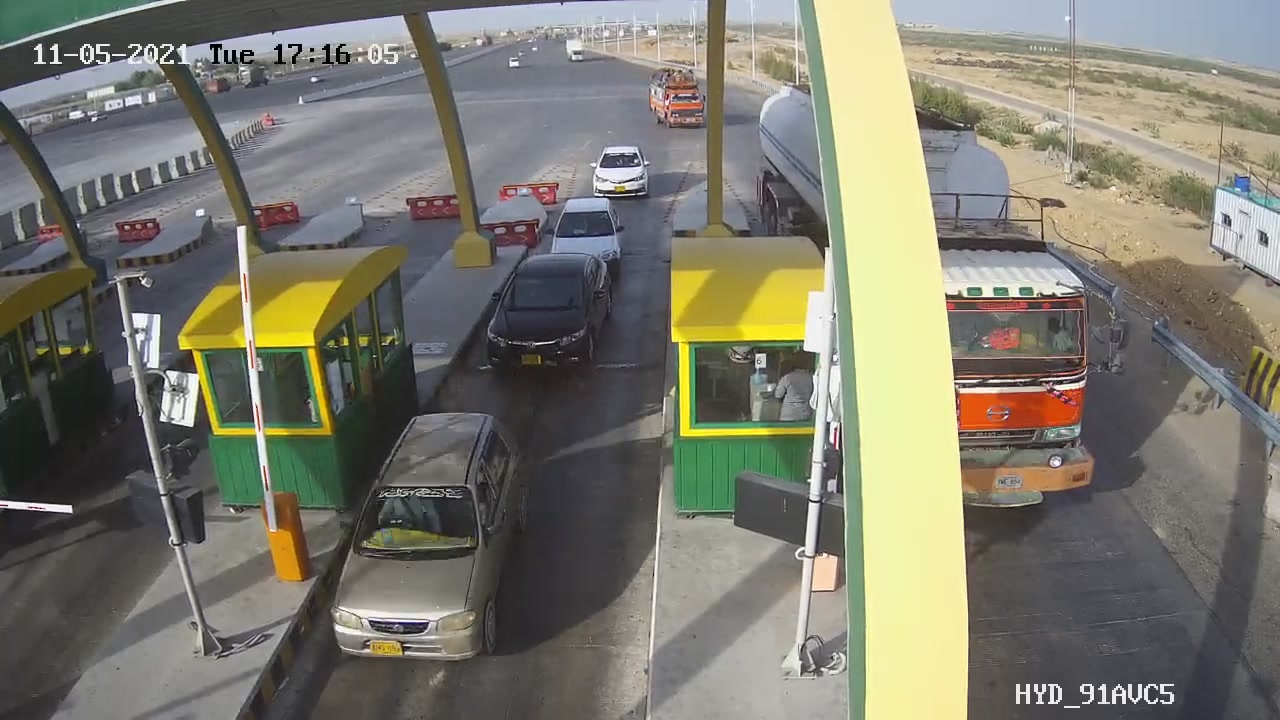F1: (469, 242, 627, 391)
